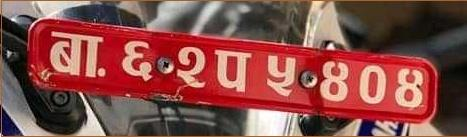0: (357, 61, 388, 105)
2: (173, 41, 211, 91)
4: (394, 66, 427, 113), (317, 59, 349, 101)
5: (261, 53, 302, 99)
6: (115, 34, 156, 83)
ba: (45, 29, 108, 81)
pa: (212, 45, 254, 94)
